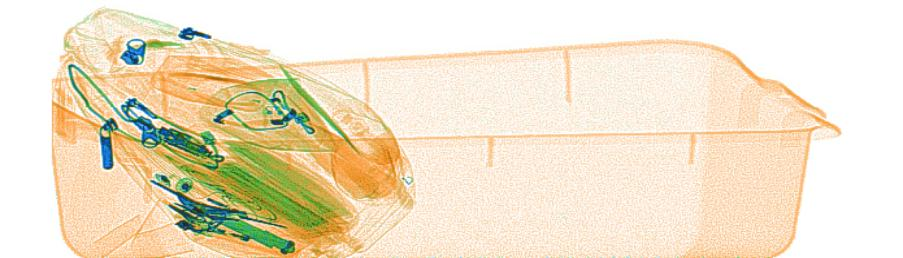knife: (198, 207, 299, 255)
lighter: (192, 216, 284, 253)
